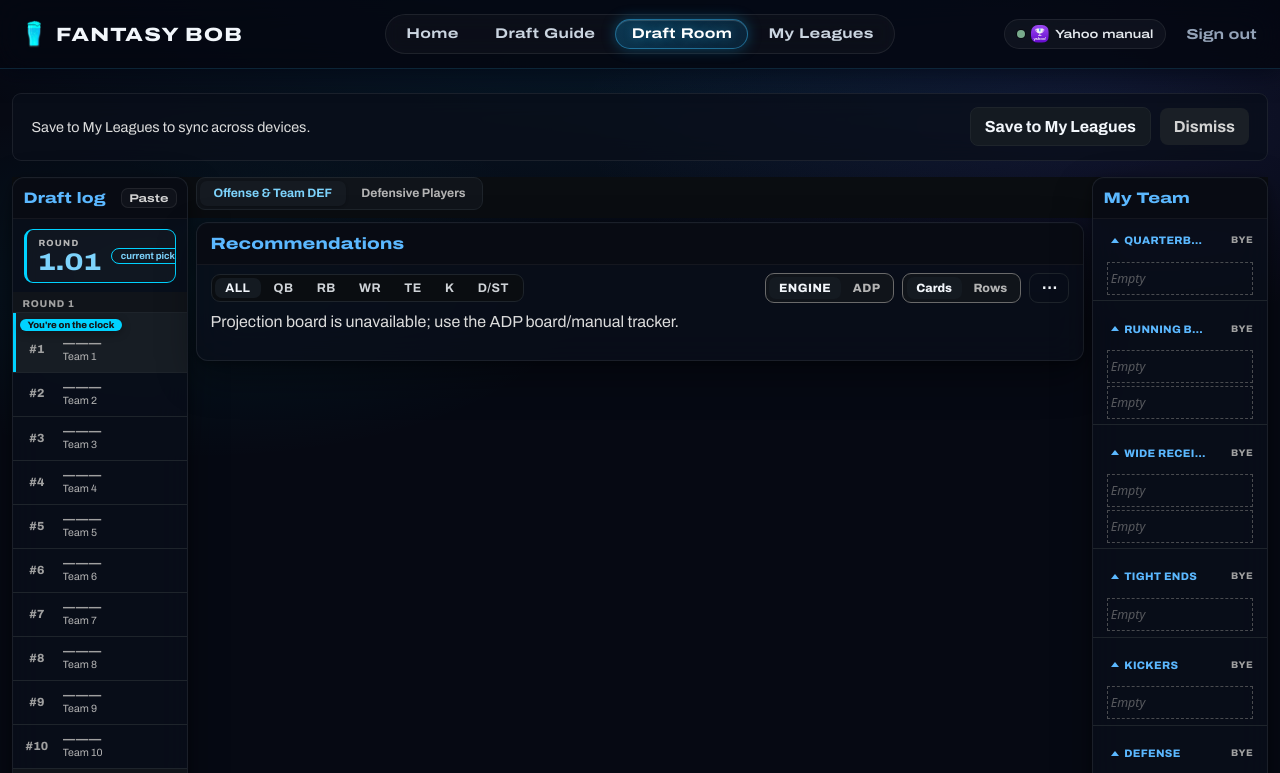
Test: DraftRoomRoute end-draft exit › renders "Save to My Leagues" banner on an unsaved active draft and saves on click
Check: the text "Save to My Leagues to sync across devices." is shown, box [31,119,310,135]
Click the button "Save to My Leagues". click: click(1060, 127)
box: [970,107,1150,146]
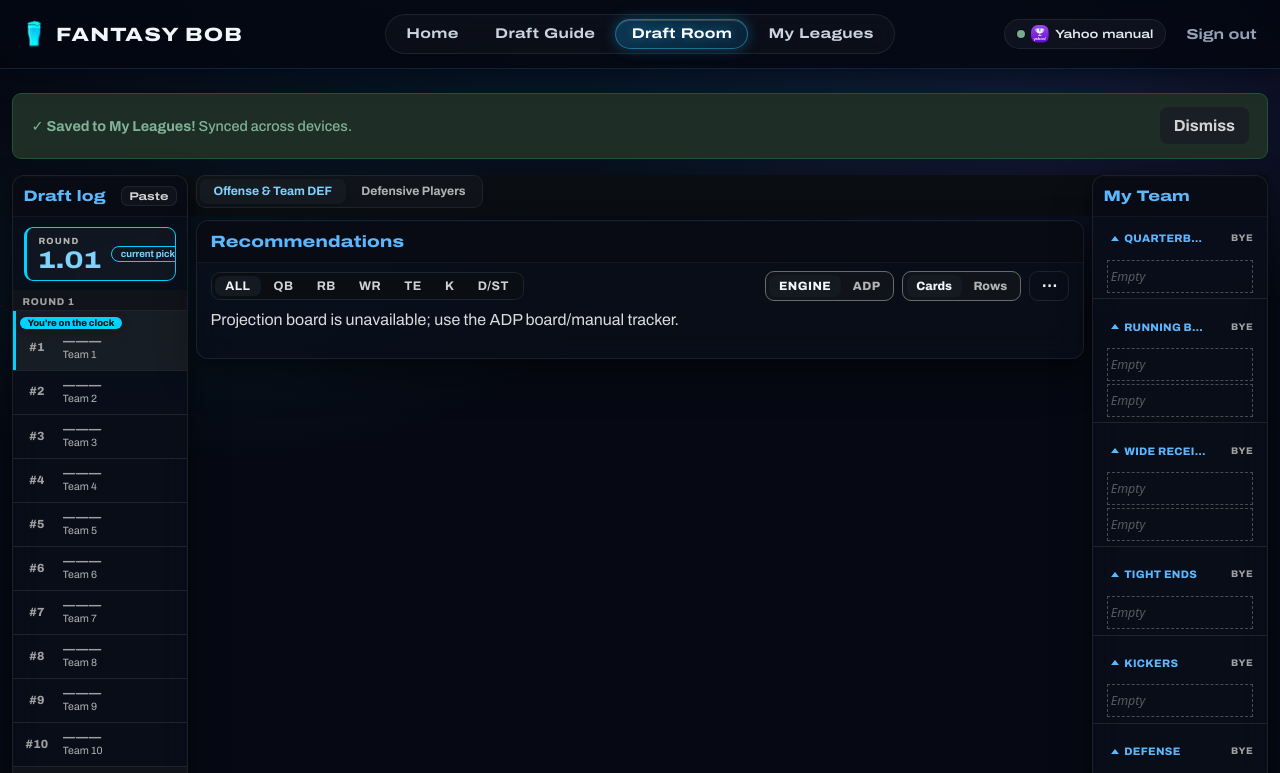
Check: the text "Saved to My Leagues!" is shown, box [46,118,196,134]
